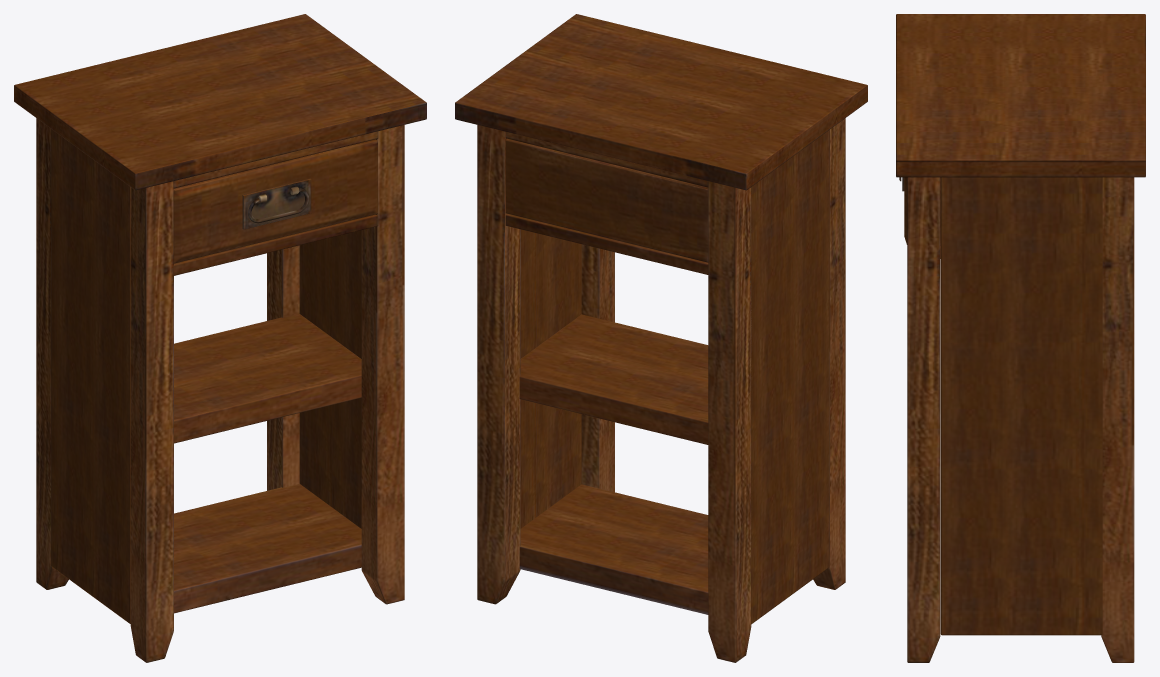
Rendered from uploads_files_2880331_wardrobe.gltf.
The picture shows the model from 3 angles, left to right: view 1: azimuth 30°, elevation 25°; view 2: azimuth 150°, elevation 25°; view 3: azimuth 270°, elevation 25°; orthographic projection. The views are drawn at different scales.
Visible parts, largest first — view 1: hall_stand.001, hall_stand_handel.001; view 2: hall_stand.001; view 3: hall_stand.001.
Boxes of the visible parts, x1=… form: hall_stand.001: x1=14, y1=14, x2=426, y2=662; hall_stand_handel.001: x1=242, y1=178, x2=311, y2=229; hall_stand.001: x1=455, y1=14, x2=867, y2=662; hall_stand.001: x1=896, y1=14, x2=1145, y2=662.
Bounding box in the file's own units: 0.4918 × 0.8011 × 0.3547.
1 material, 1 textured.
